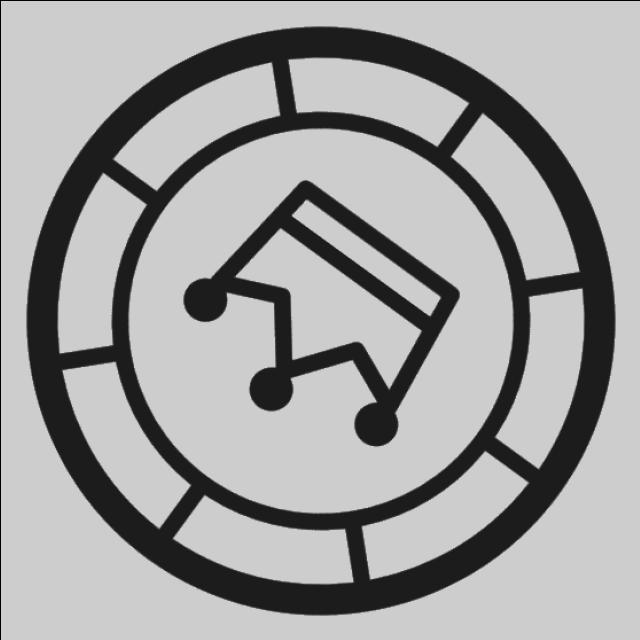coin: (16, 15, 625, 625)
